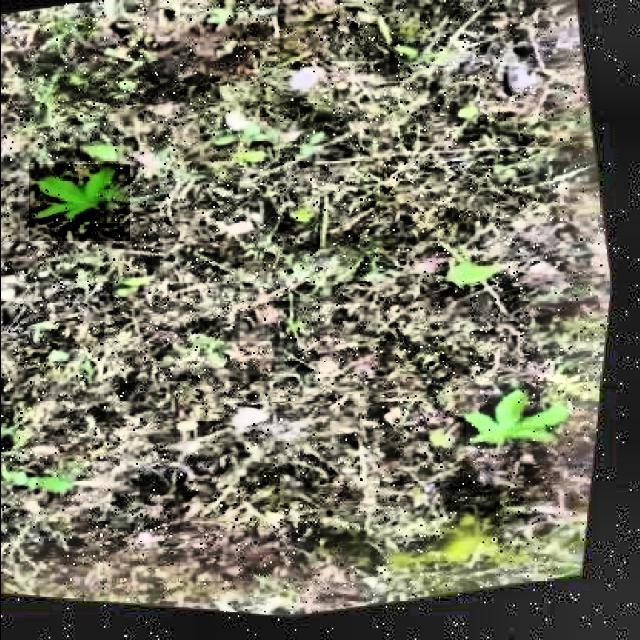Weeds: (465, 374, 587, 464), (28, 164, 129, 241)
